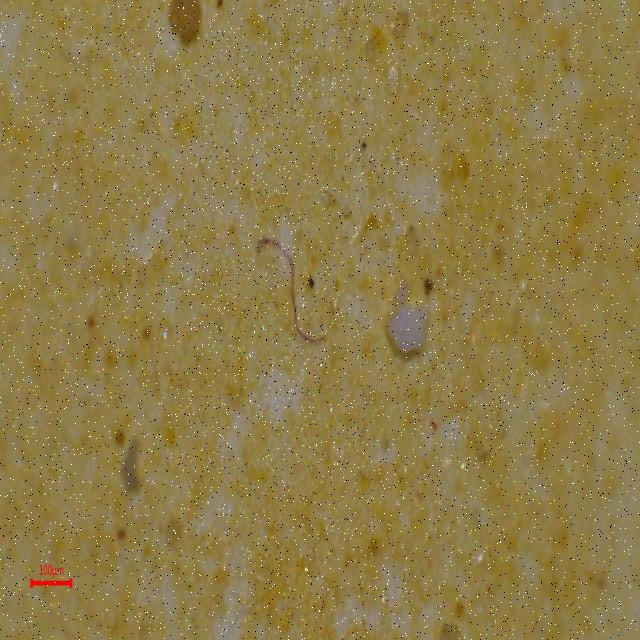fibers: (253, 229, 327, 352)
